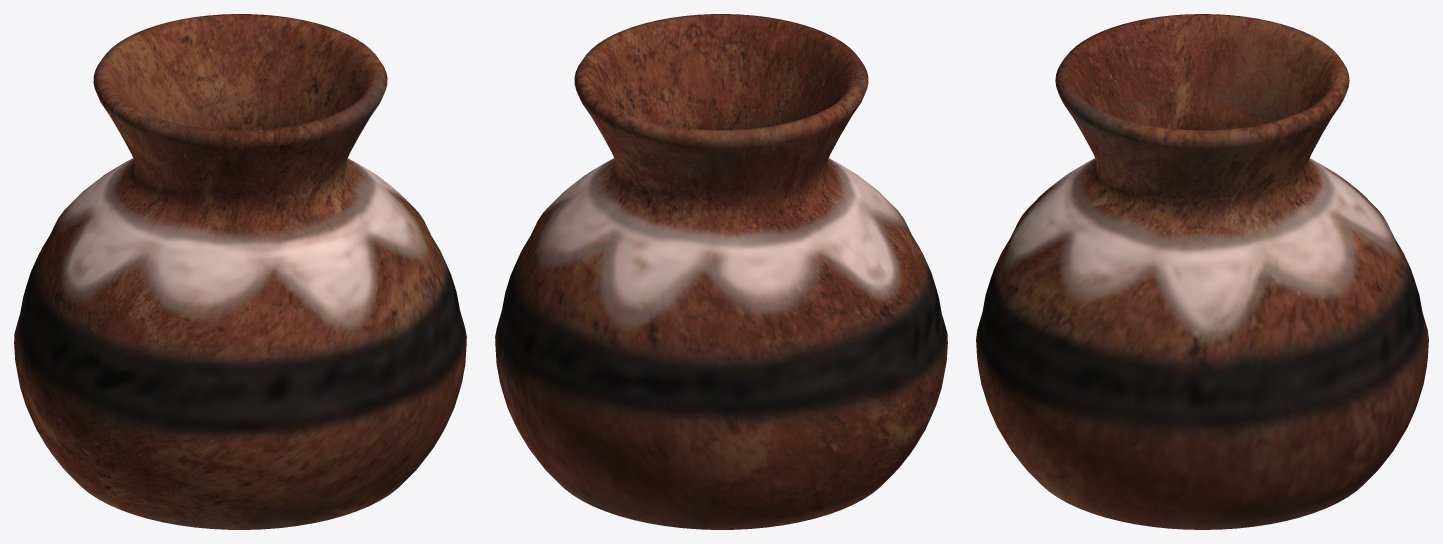
Rendered from pot.gltf.
The picture shows the model from 3 angles, left to right: view 1: azimuth 30°, elevation 25°; view 2: azimuth 150°, elevation 25°; view 3: azimuth 270°, elevation 25°; orthographic projection.
Parts seen in each view (by area): view 1: Sphere; view 2: Sphere; view 3: Sphere.
Boxes of the visible parts, x1,y1,x2,y2 form: Sphere: [14, 14, 466, 529]; Sphere: [495, 14, 947, 529]; Sphere: [976, 14, 1428, 529].
Bounding box in the file's own units: 2.17 × 2.1 × 2.17.
